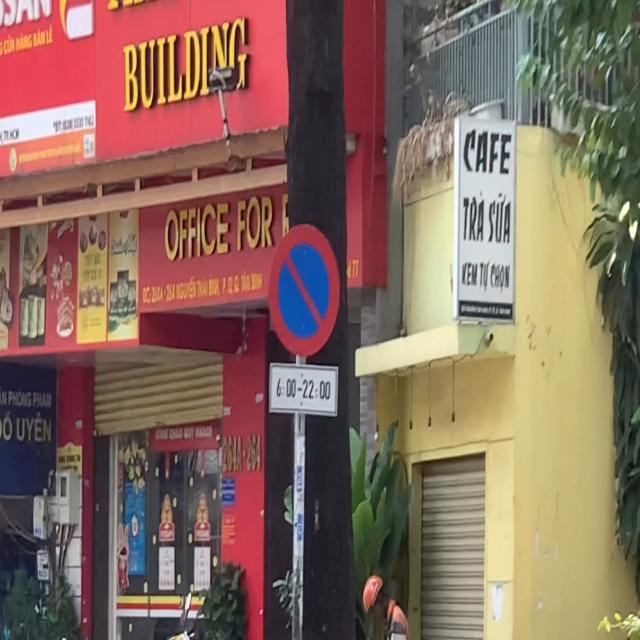Cam do: (268, 224, 340, 357)
